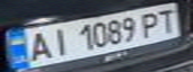0: (90, 19, 112, 48)
1: (72, 20, 93, 51)
8: (106, 16, 127, 46)
9: (118, 14, 142, 43)
A: (18, 29, 54, 63)
I: (45, 25, 72, 57)
P: (136, 9, 166, 38)
T: (151, 7, 181, 34)
